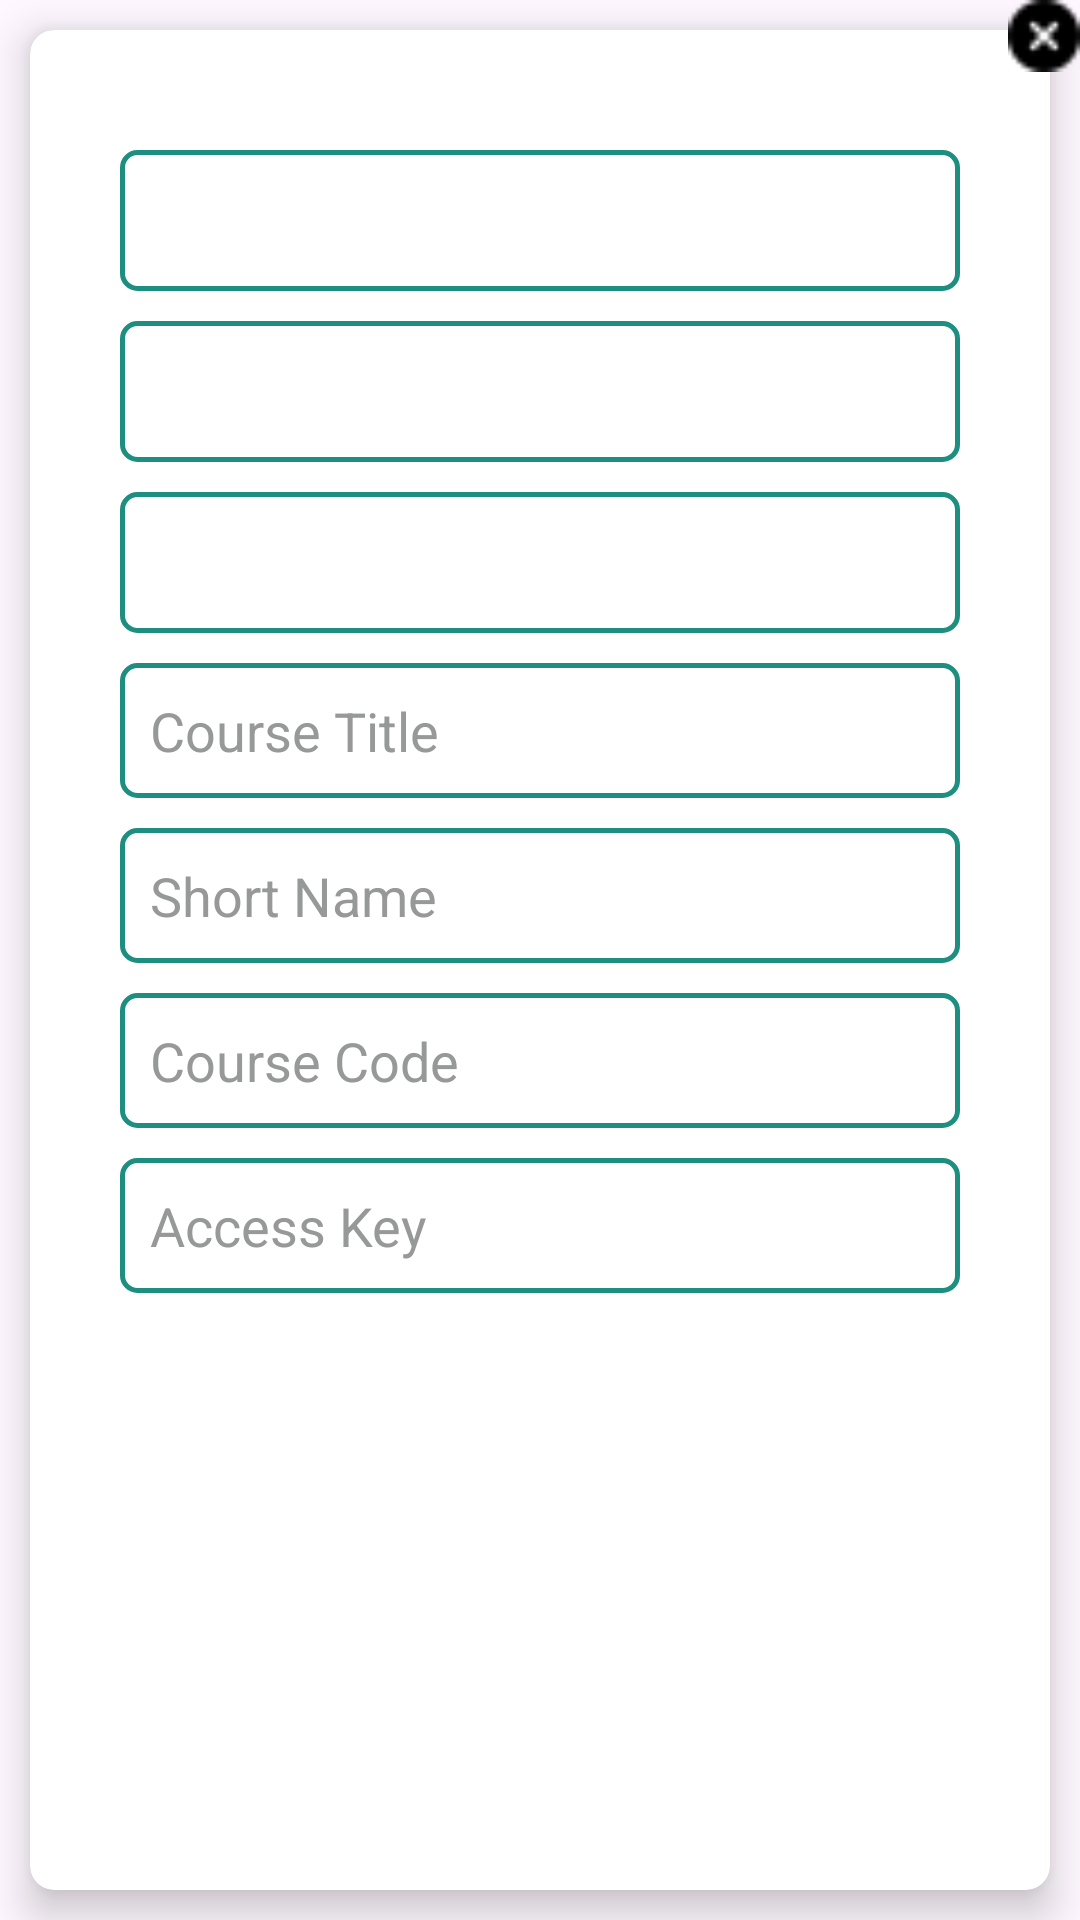

Icons on this 1080px x 1920px Android screen, each with its box as rect(x1, y1, x2, y2):
cross: rect(1008, 0, 1080, 72)
